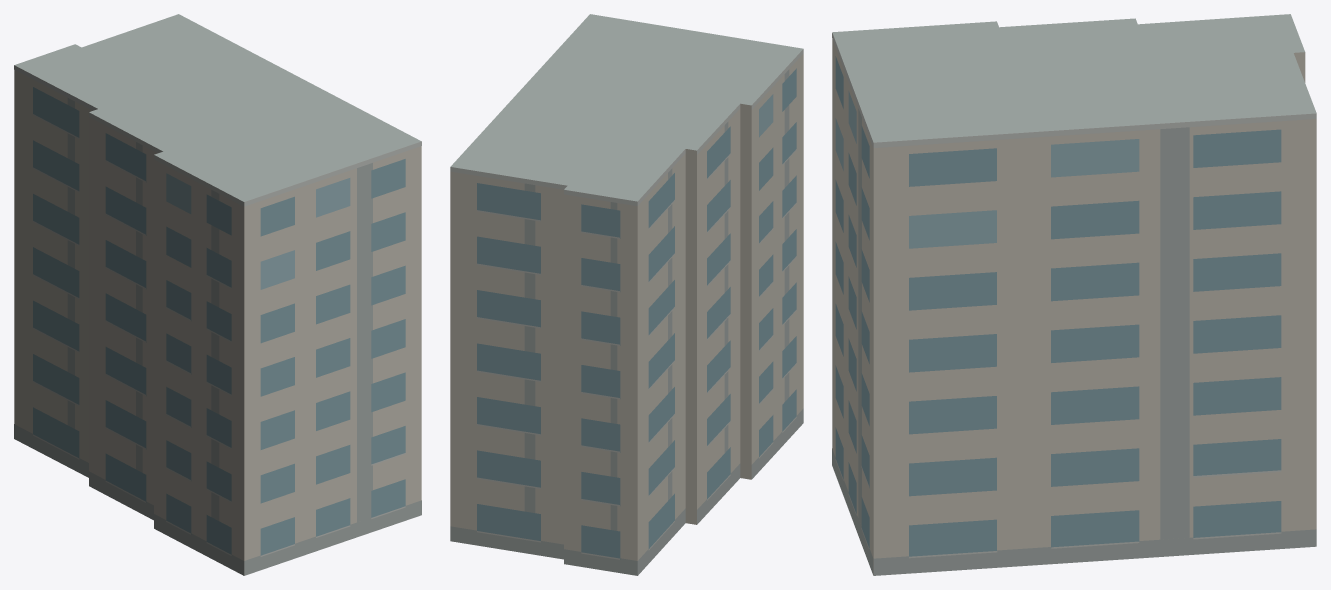
File: survey-upis-33002526.glb
3 views of the same model, side by side, from view 1: azimuth 30°, elevation 25°; view 2: azimuth 150°, elevation 25°; view 3: azimuth 270°, elevation 25° (orthographic). The views are drawn at different scales.
Visible parts, largest first — view 1: survey-upis-33002526.tmp; view 2: survey-upis-33002526.tmp; view 3: survey-upis-33002526.tmp.
Part boxes in pixels (x1,y1,x2,y2): survey-upis-33002526.tmp: (14,14,421,575); survey-upis-33002526.tmp: (450,14,803,575); survey-upis-33002526.tmp: (832,14,1316,575).
Bounding box in the file's own units: 12.43 × 19.5 × 19.78.
